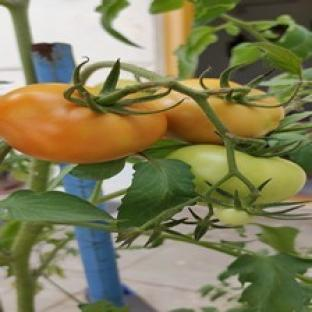Tomato: (0, 84, 167, 162), (236, 151, 306, 203), (208, 95, 284, 137), (214, 208, 253, 227)
